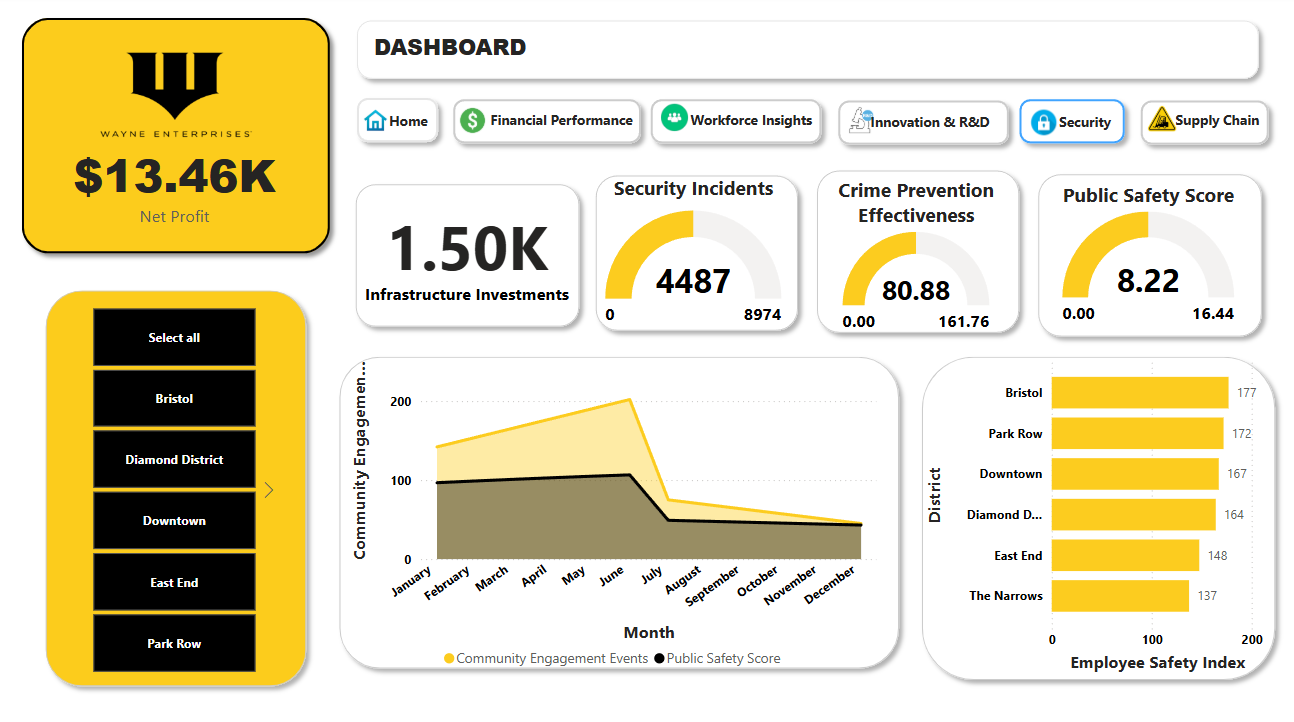

The page's visual inventory and layout, read from the dashboard file:
{"tool":"powerbi","page":{"name":"Security Dashboard","canvas":[1280,720],"ordinal":4},"visuals":[{"type":"shape","box":[13.5,13.5,319.2,248.2],"z":0},{"type":"image","box":[50.1,9.7,243.5,172.5],"z":2000},{"type":"card","fields":{"Values":["Sum(wayne_financial_data.Net_Profit_M)"]},"box":[64.8,110.1,214,151.6],"z":3000},{"type":"shape","box":[340.9,91.3,97.4,61.2],"z":4000},{"type":"shape","box":[1107.5,94.6,143.3,61.2],"z":5000},{"type":"shape","box":[341.6,15.3,900.2,75.1],"z":6000},{"type":"shape","box":[988.7,92.8,121,61.2],"z":7000},{"type":"shape","box":[434.9,92.4,201.7,61.2],"z":8000},{"type":"shape","box":[628.3,92.4,185,61.2],"z":9000},{"type":"textbox","box":[361.8,30.7,225,51.4],"z":10000},{"type":"image","box":[337.9,103.2,61.1,39.1],"z":11000},{"type":"textbox","box":[377,109.4,175.3,30.6],"z":12000},{"type":"image","box":[432.4,102.7,61.1,40.4],"z":13000},{"type":"textbox","box":[475.2,107.6,176.1,30.6],"z":14000},{"type":"image","box":[623.6,96,74.6,48.9],"z":15000},{"type":"textbox","box":[671.4,107.4,175.3,30.6],"z":16000},{"type":"image","box":[990.7,106.5,63.6,37.9],"z":17000},{"type":"textbox","box":[1031.8,109.5,176.7,30.6],"z":18000},{"type":"image","box":[1103.1,98.8,69.6,44.5],"z":19000},{"type":"textbox","box":[1146.3,107.1,130.8,30.6],"z":20000},{"type":"shape","box":[811.4,94.1,185,61.2],"z":21000},{"type":"image","box":[811.6,100.4,61.1,45.2],"z":22000},{"type":"textbox","box":[847.9,110.3,176.1,30.6],"z":23000},{"type":"shape","box":[36.2,280,273,405.3],"z":24000},{"type":"slicer","fields":{"Values":["wayne_security_data.District"]},"box":[65.5,299.5,208.9,369.1],"z":25000},{"type":"shape","box":[324.5,345.4,565.5,323.1],"z":26000},{"type":"shape","box":[339.8,175.5,236.8,157.4],"z":27000},{"type":"areaChart","fields":{"Category":["wayne_security_data.Date.Variation.Date Hierarchy.Month"],"Y":["Sum(wayne_security_data.Community_Engagement_Events)","Sum(wayne_security_data.Public_Safety_Score)"]},"box":[339.8,345.4,523.7,323.1],"z":28000},{"type":"shape","box":[791.1,163,215.9,176.9],"z":29000},{"type":"shape","box":[894.2,345.4,363.5,334.3],"z":30000},{"type":"shape","box":[1007,165.7,236.8,176.9],"z":31000},{"type":"clusteredBarChart","fields":{"Category":["wayne_security_data.District"],"Y":["Sum(wayne_security_data.Employee_Safety_Index)"]},"box":[902.5,345.4,351,323.1],"z":32000},{"type":"gauge","title":"Public Safety Score","fields":{"Y":["Avg(wayne_security_data.Public_Safety_Score)"]},"box":[1023.7,182.5,202,150.4],"z":33000},{"type":"shape","box":[575.2,167.1,215.9,169.9],"z":34000},{"type":"card","fields":{"Values":["Sum(wayne_security_data.Infrastructure_Investments_M)"]},"box":[352.4,172.7,211.7,163],"z":35000},{"type":"gauge","fields":{"Y":["Avg(wayne_security_data.Crime_Prevention_Effectiveness_Pct)"]},"box":[805,176.9,185.2,163],"z":36000},{"type":"gauge","fields":{"Y":["Sum(wayne_security_data.Security_Incidents)"]},"box":[587.8,175.5,182.5,163],"z":37000},{"type":"actionButton","box":[350.6,103,82.1,41.7],"z":38000},{"type":"actionButton","box":[438.3,101.6,190.6,41.7],"z":39000},{"type":"actionButton","box":[640,103,165.6,41.7],"z":40000},{"type":"actionButton","box":[819.5,107.1,165.6,41.7],"z":41000},{"type":"actionButton","box":[1114.4,107.1,128,41.7],"z":42000}]}

Visuals, with their boxes in screenshot pixels (x1, y1, x2, y2), scaled from the page's 1280x720 canvas onto the 1294x722 screenshot:
shape: crop(14, 14, 336, 262)
image: crop(51, 10, 297, 183)
card - Sum(wayne_financial_data.Net_Profit_M): crop(66, 110, 282, 262)
shape: crop(345, 92, 443, 153)
shape: crop(1120, 95, 1264, 156)
shape: crop(345, 15, 1255, 91)
shape: crop(1000, 93, 1122, 154)
shape: crop(440, 93, 644, 154)
shape: crop(635, 93, 822, 154)
textbox: crop(366, 31, 593, 82)
image: crop(342, 103, 403, 143)
textbox: crop(381, 110, 558, 140)
image: crop(437, 103, 499, 143)
textbox: crop(480, 108, 658, 139)
image: crop(630, 96, 706, 145)
textbox: crop(679, 108, 856, 138)
image: crop(1002, 107, 1066, 145)
textbox: crop(1043, 110, 1222, 140)
image: crop(1115, 99, 1186, 144)
textbox: crop(1159, 107, 1291, 138)
shape: crop(820, 94, 1007, 156)
image: crop(820, 101, 882, 146)
textbox: crop(857, 111, 1035, 141)
shape: crop(37, 281, 313, 687)
slicer - wayne_security_data.District: crop(66, 300, 277, 670)
shape: crop(328, 346, 900, 670)
shape: crop(344, 176, 583, 334)
areaChart - wayne_security_data.Date.Variation.Date Hierarchy.Month x Sum(wayne_security_data.Community_Engagement_Events): crop(344, 346, 873, 670)
shape: crop(800, 163, 1018, 341)
shape: crop(904, 346, 1271, 682)
shape: crop(1018, 166, 1257, 344)
clusteredBarChart - wayne_security_data.District x Sum(wayne_security_data.Employee_Safety_Index): crop(912, 346, 1267, 670)
"Public Safety Score" gauge: crop(1035, 183, 1239, 334)
shape: crop(581, 168, 800, 338)
card - Sum(wayne_security_data.Infrastructure_Investments_M): crop(356, 173, 570, 337)
gauge - Avg(wayne_security_data.Crime_Prevention_Effectiveness_Pct): crop(814, 177, 1001, 341)
gauge - Sum(wayne_security_data.Security_Incidents): crop(594, 176, 779, 339)
actionButton: crop(354, 103, 437, 145)
actionButton: crop(443, 102, 636, 144)
actionButton: crop(647, 103, 814, 145)
actionButton: crop(828, 107, 996, 149)
actionButton: crop(1127, 107, 1256, 149)
